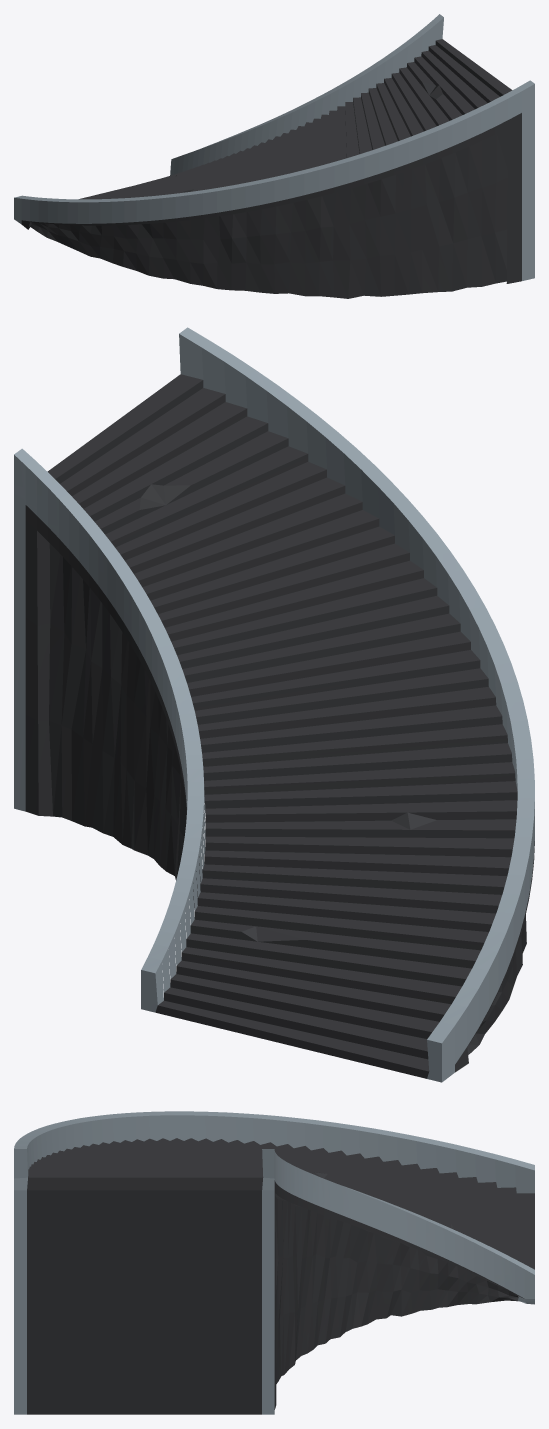
The model's file is Ramp_Medium_Curved_270.fbx.
3 renders of one model, top to bottom at view 1: azimuth 30°, elevation 25°; view 2: azimuth 150°, elevation 25°; view 3: azimuth 270°, elevation 25°, orthographic. The views are drawn at different scales.
Parts seen in each view (by area): view 1: Ramp_Medium_90_Right; view 2: Ramp_Medium_90_Right; view 3: Ramp_Medium_90_Right.
Boxes of the visible parts, left/top/right/bottom form: Ramp_Medium_90_Right: left=14, top=14, right=534, bottom=298; Ramp_Medium_90_Right: left=14, top=327, right=534, bottom=1082; Ramp_Medium_90_Right: left=14, top=1111, right=534, bottom=1414.
Size of the model in its own units: 16.01 by 9.08 by 16.
